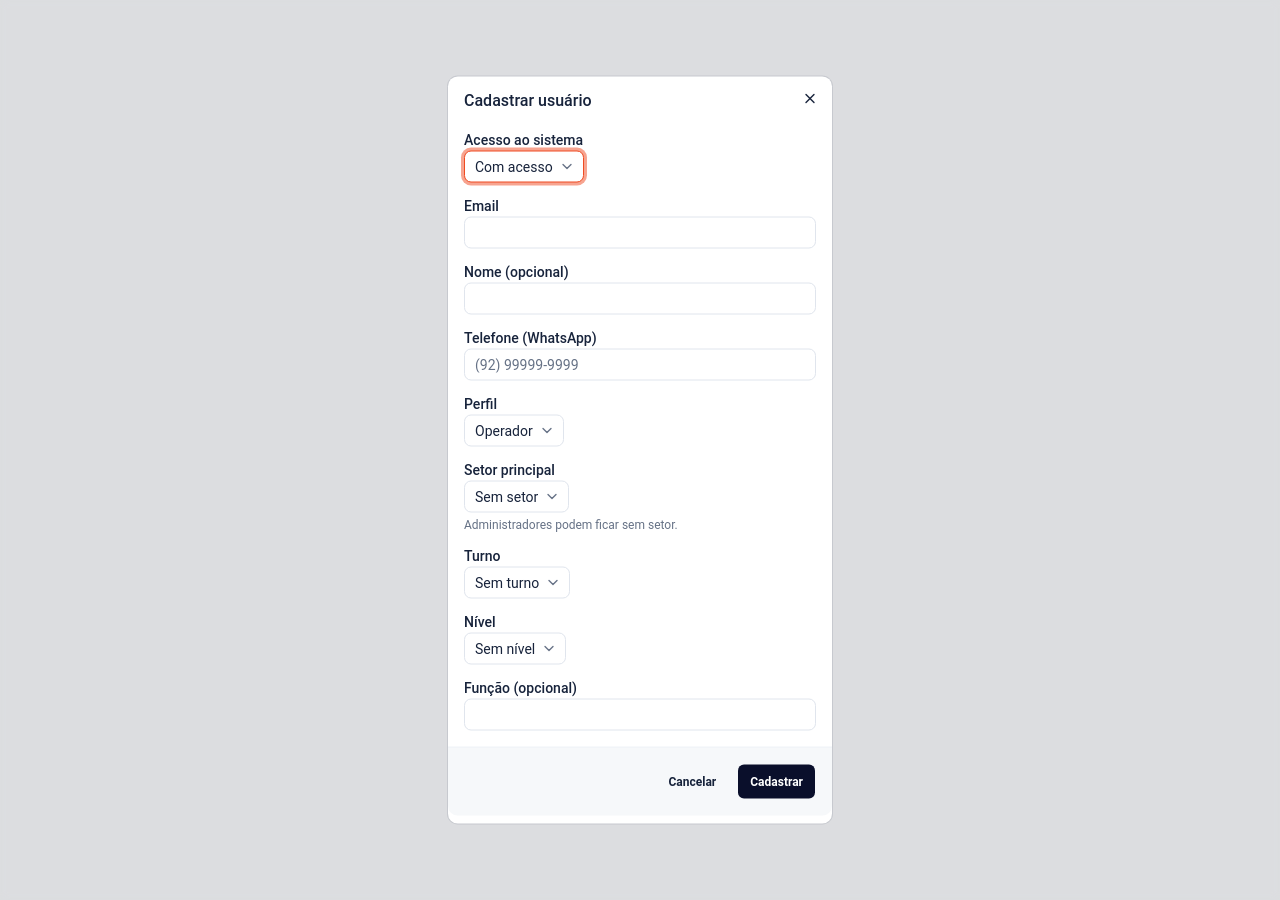
InviteUserDialog phone › maps invalid_phone to the phone field error
This screenshot has width=1280, height=900.
In the field labelled "Email": (640, 232) [464,216,816,248], type "admin@x.com"
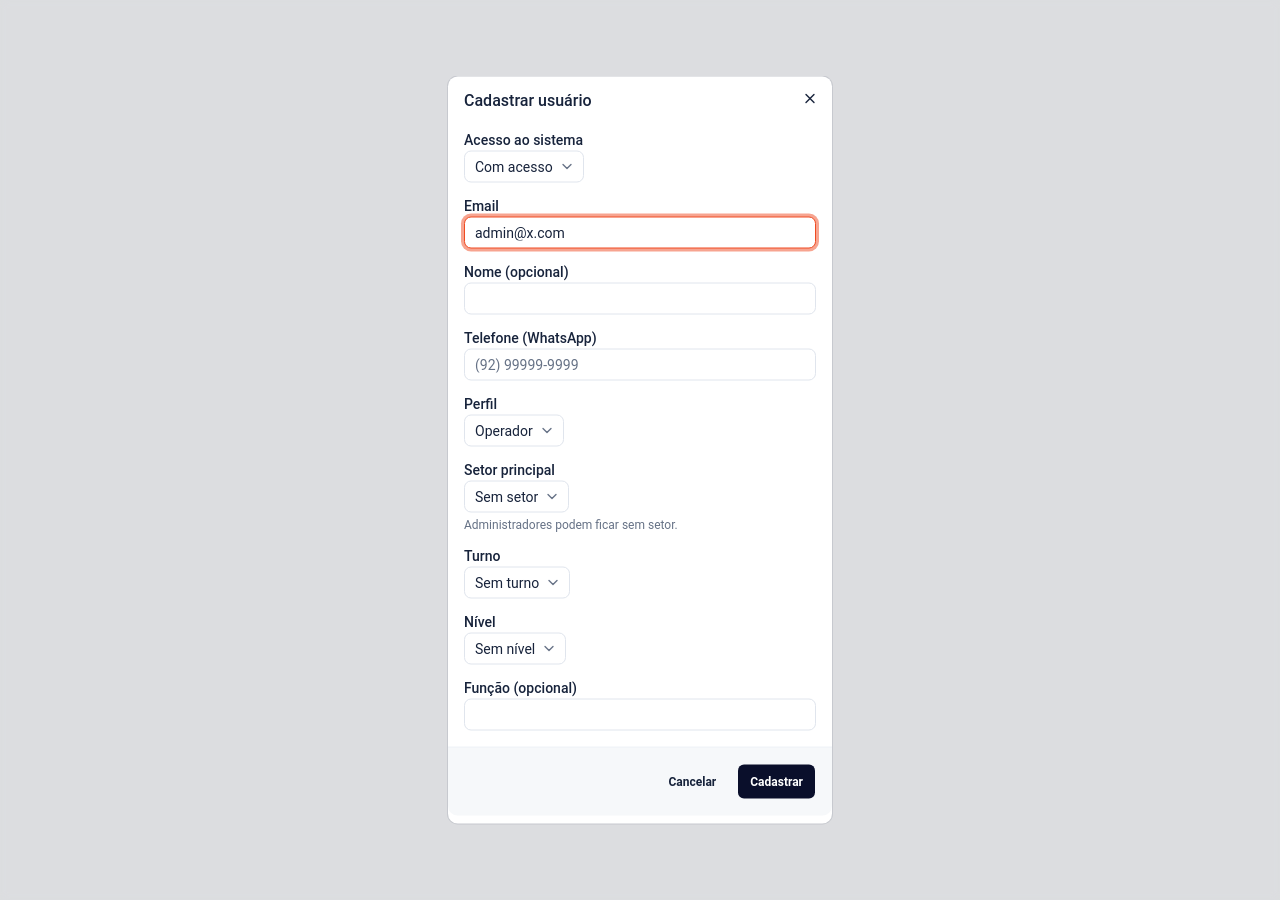
In the field labelled "Telefone (WhatsApp)": (640, 364) [464,348,816,380], type "92 99123-4567"
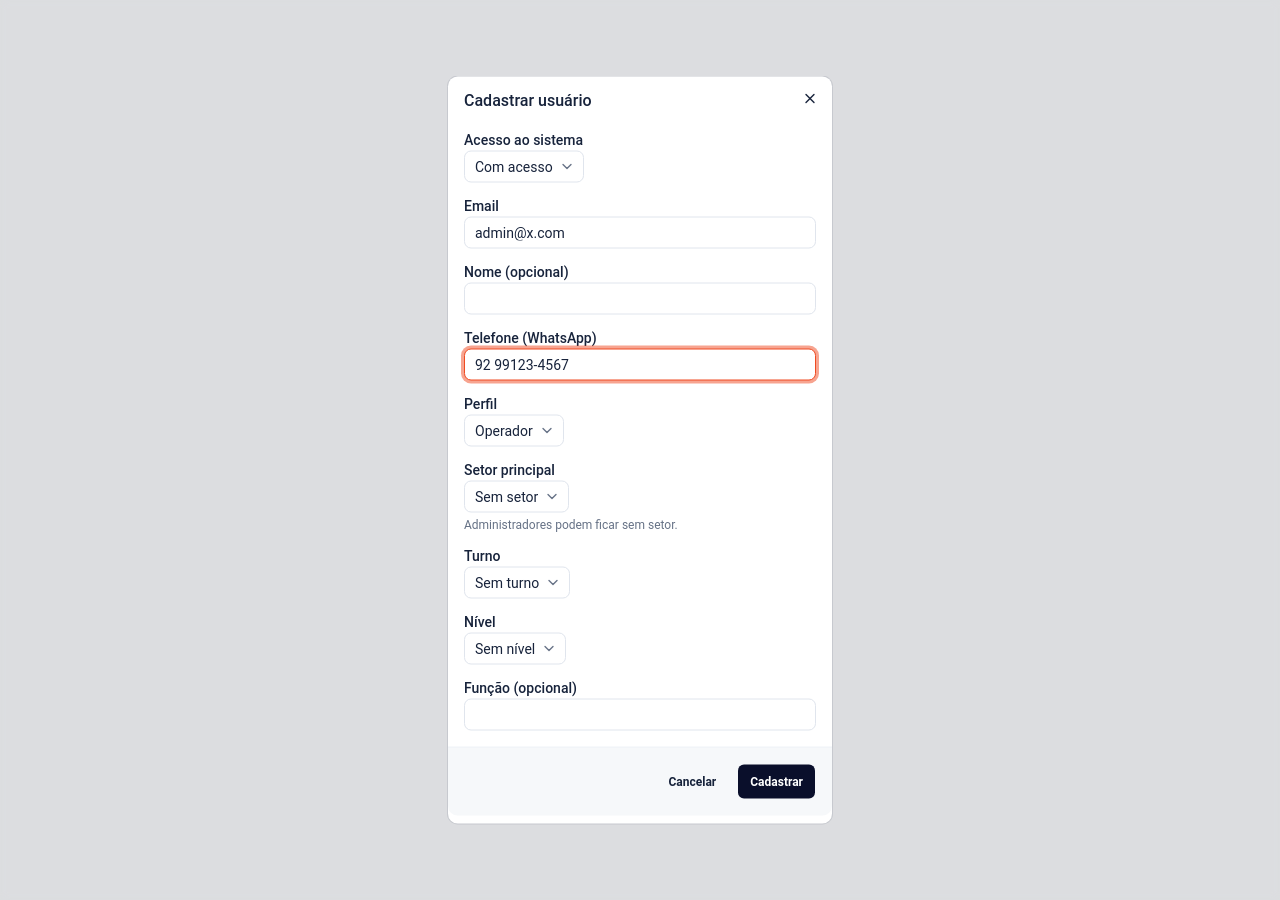
Click the dropdown named "Perfil": (514, 430) [464,414,564,446]
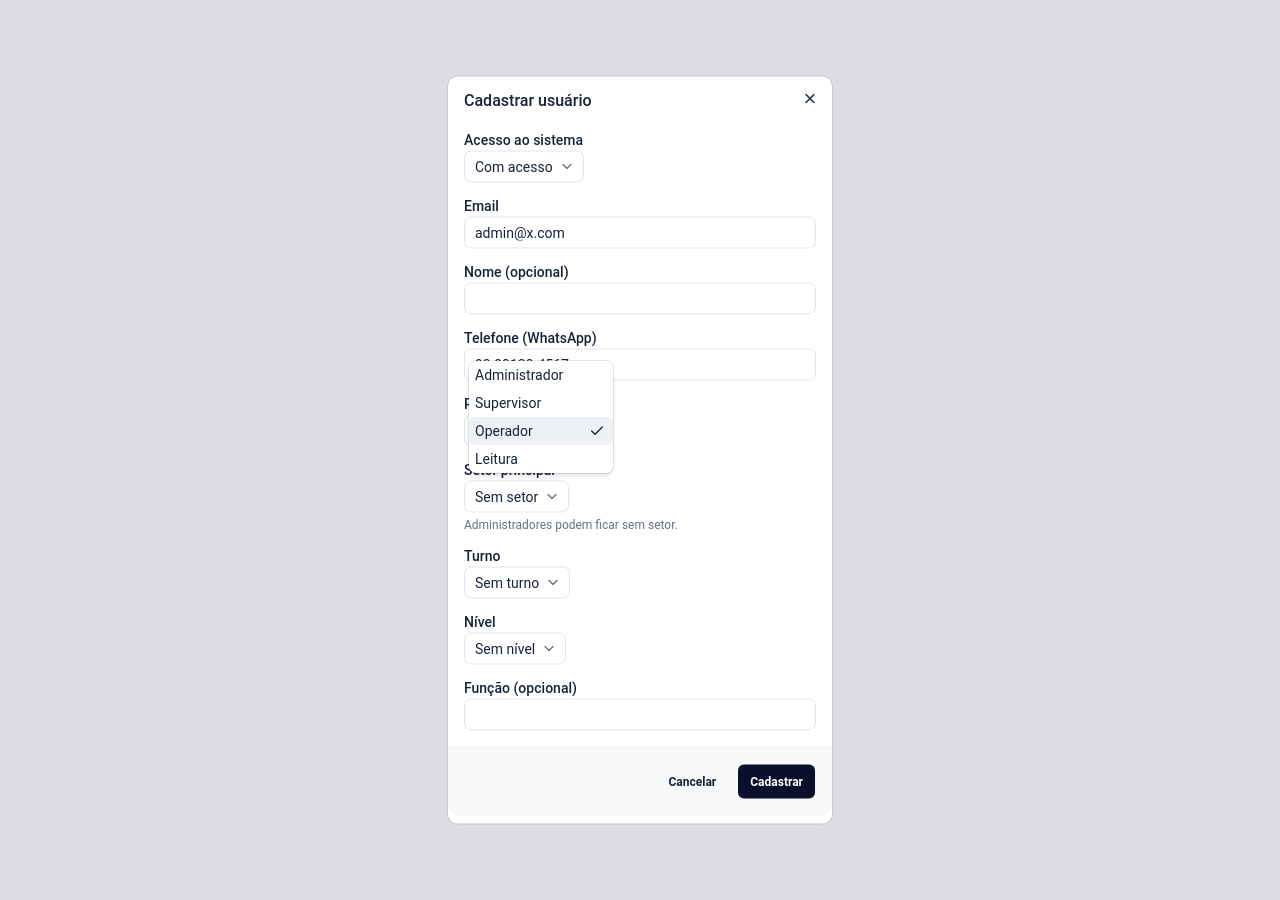
Click the option "Administrador": (519, 374) [475,366,563,382]
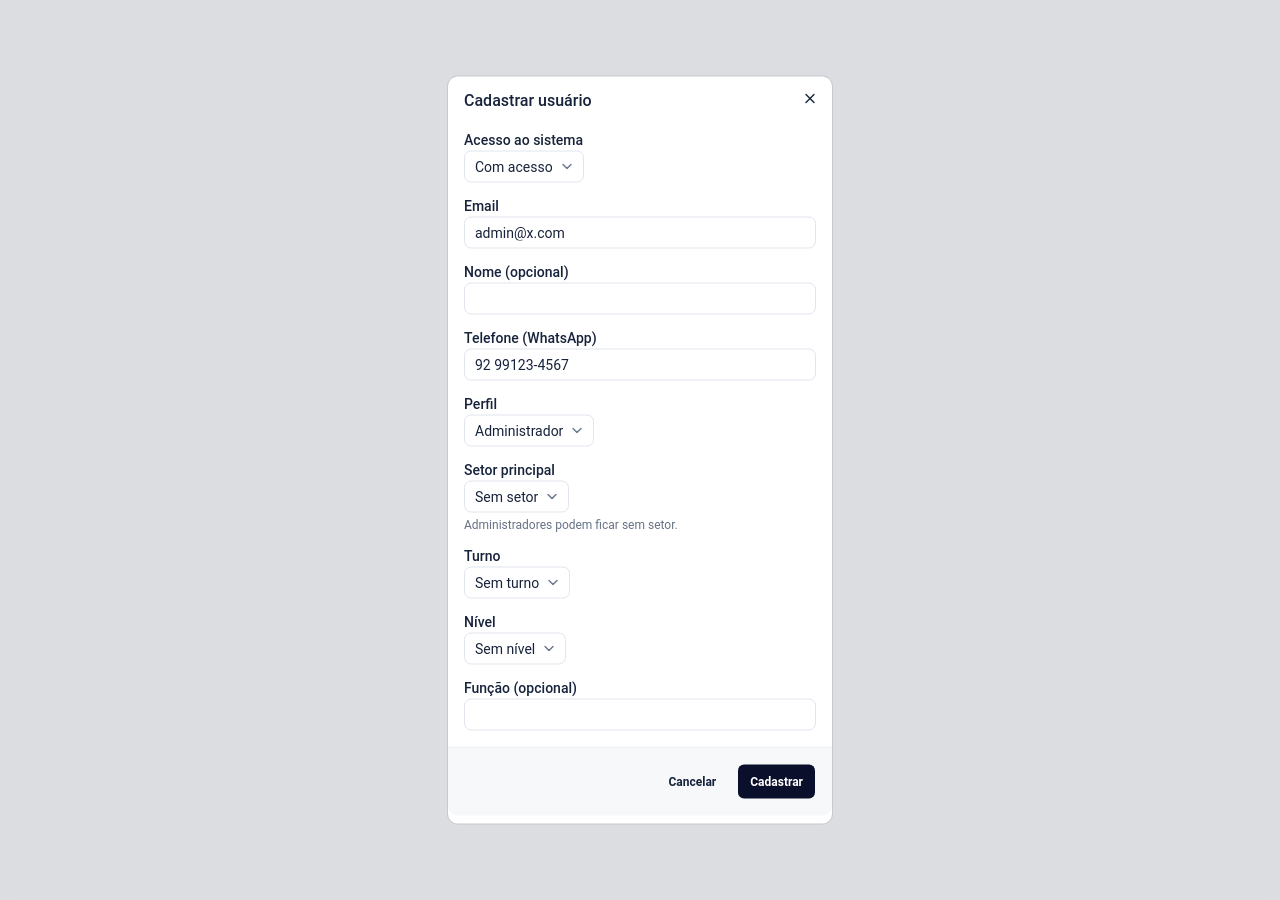
Click the button "Cadastrar": (777, 782) [737,764,816,800]
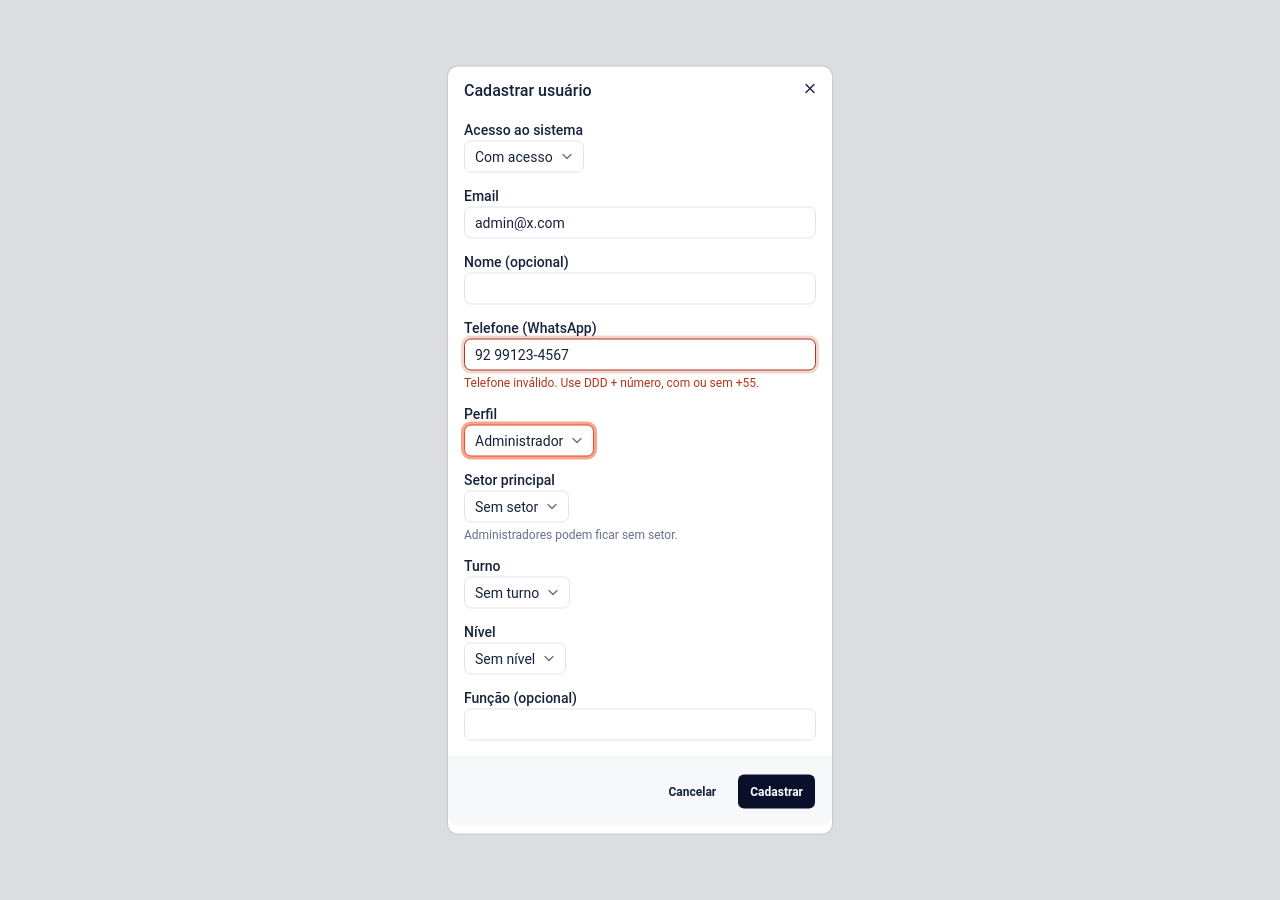
Check: the text "Telefone inválido. Use DDD + número, com ou sem +55." is shown, box [464,376,759,390]
